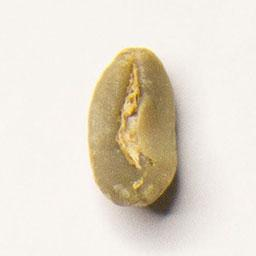longberry: (82, 42, 183, 212)
